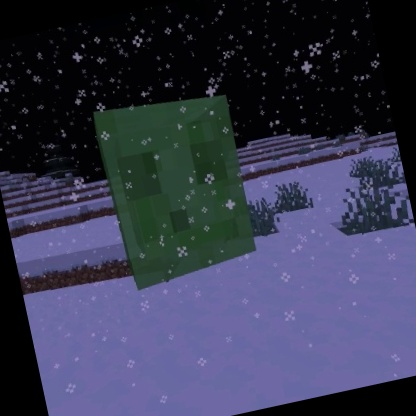slime: (87, 79, 266, 297)
